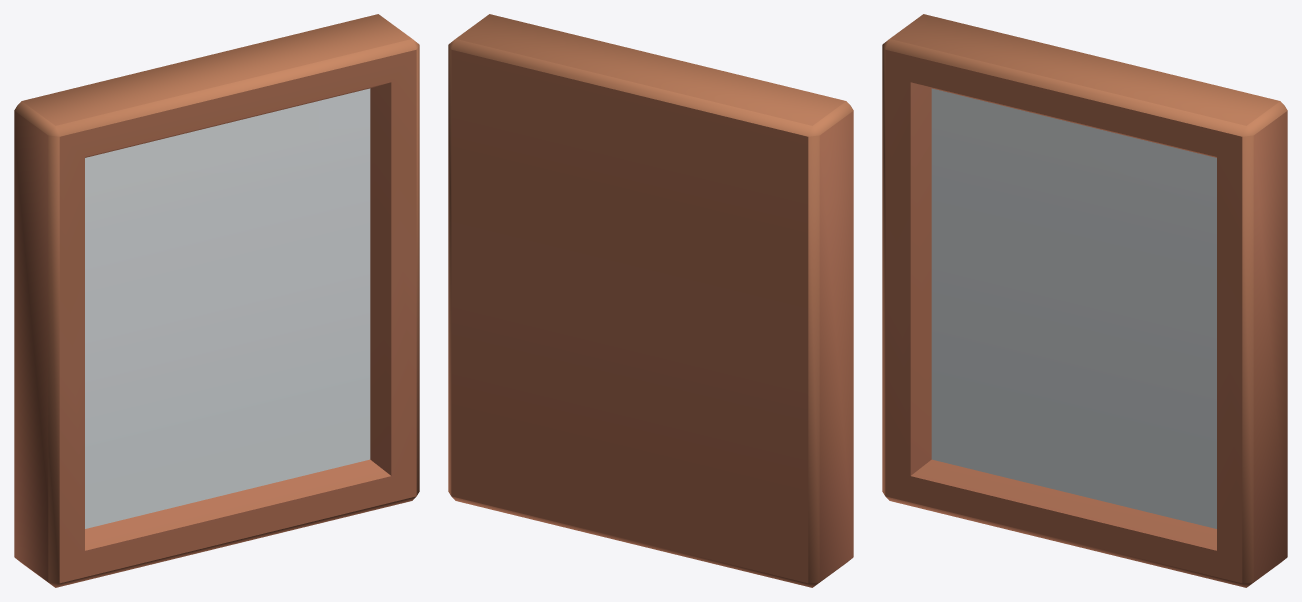
Rendered from kay-quadro-grande.gltf.
3 renders of one model, left to right at view 1: azimuth 30°, elevation 25°; view 2: azimuth 150°, elevation 25°; view 3: azimuth 330°, elevation 25°, orthographic.
Parts seen in each view (by area): view 1: pictureframe_large_A; view 2: pictureframe_large_A; view 3: pictureframe_large_A.
Part boxes in pixels (x1,y1,x2,y2): pictureframe_large_A: (14,14,419,587); pictureframe_large_A: (448,14,853,587); pictureframe_large_A: (882,14,1287,587).
Size of the model in its own units: 0.6565 by 0.78 by 0.13.
Materials: 1 (1 with a texture image).
